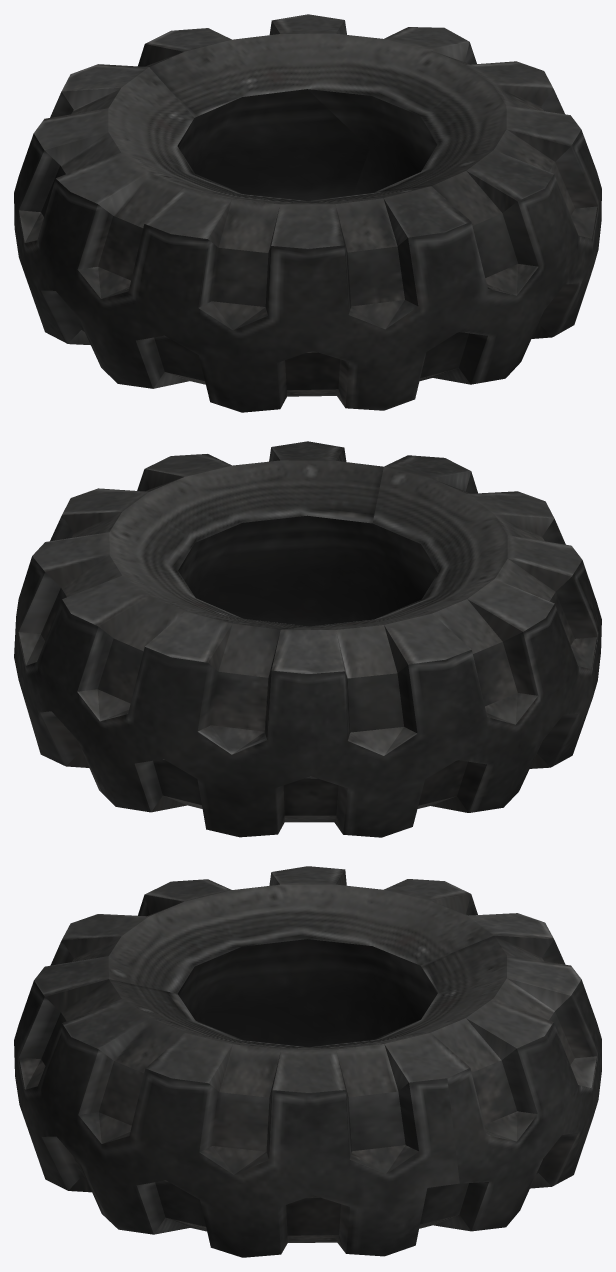
File: Vehicle_Tire01.FBX
3 renders of one model, top to bottom at view 1: azimuth 30°, elevation 25°; view 2: azimuth 150°, elevation 25°; view 3: azimuth 270°, elevation 25°, orthographic.
Parts seen in each view (by area): view 1: Vehicle_Tire01; view 2: Vehicle_Tire01; view 3: Vehicle_Tire01.
Boxes of the visible parts, x1,y1,x2,y2 form: Vehicle_Tire01: (14, 14, 601, 412); Vehicle_Tire01: (14, 441, 601, 837); Vehicle_Tire01: (14, 866, 601, 1257).
Bounding box in the file's own units: 1.37 × 0.5036 × 1.37.
